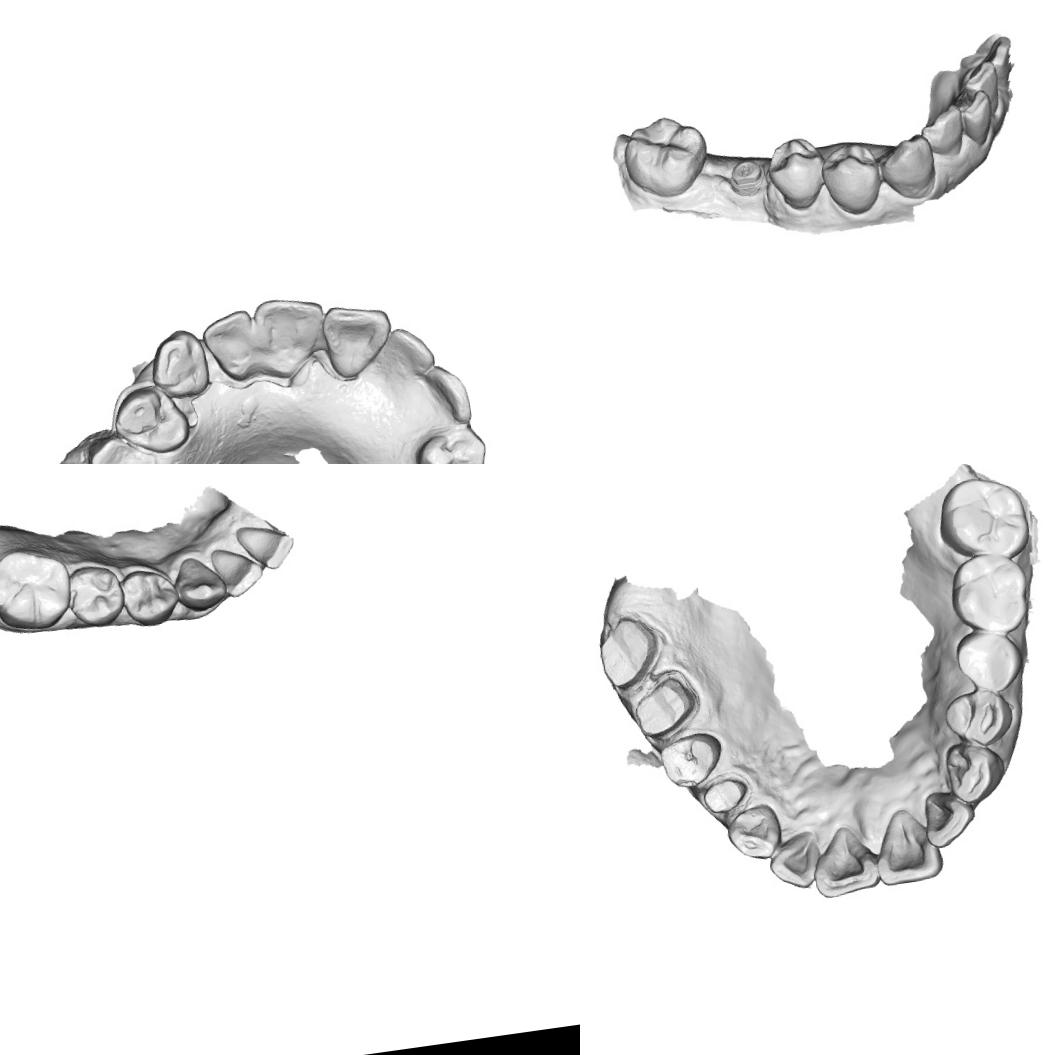canine: (144, 324, 214, 404), (940, 736, 1010, 808), (875, 131, 940, 204), (168, 551, 232, 617), (722, 800, 786, 864), (422, 358, 476, 429)
crown: (592, 610, 668, 693), (628, 670, 704, 742), (692, 768, 754, 820)
implant_minus: (715, 150, 766, 205)
incisor: (250, 290, 333, 380), (866, 802, 946, 889), (317, 300, 399, 382), (804, 820, 886, 902), (198, 308, 261, 386), (762, 829, 826, 894), (918, 786, 981, 852), (234, 518, 299, 576), (207, 541, 266, 602), (379, 322, 438, 382), (917, 102, 968, 161), (953, 88, 998, 148), (960, 58, 1003, 120), (984, 35, 1016, 81)
molar: (928, 466, 1036, 568), (616, 110, 713, 204), (941, 548, 1036, 642), (0, 542, 78, 636)
premolar: (107, 377, 196, 461), (762, 133, 832, 214), (938, 685, 1019, 755), (817, 139, 886, 220), (952, 626, 1026, 698), (655, 728, 728, 795), (115, 562, 184, 632), (62, 561, 127, 632), (411, 421, 491, 464), (84, 429, 161, 464)
